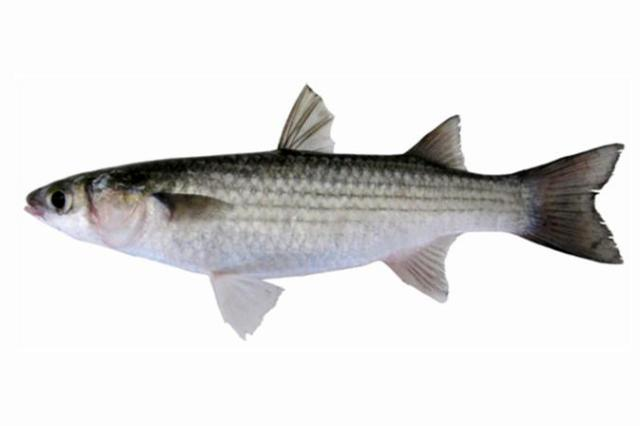Mulut: (17, 180, 55, 226)
Sirip Anal: (377, 225, 471, 313)
Sirip Dada: (150, 182, 240, 228)
Sirip Ekor: (525, 135, 627, 271)
Sirip Perut: (206, 258, 292, 348)
Sirip Punggung: (268, 78, 467, 180)
